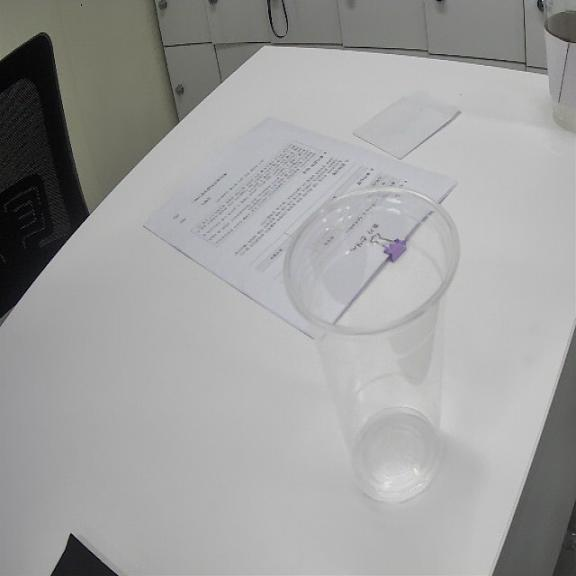Plastik: (284, 189, 459, 502)
